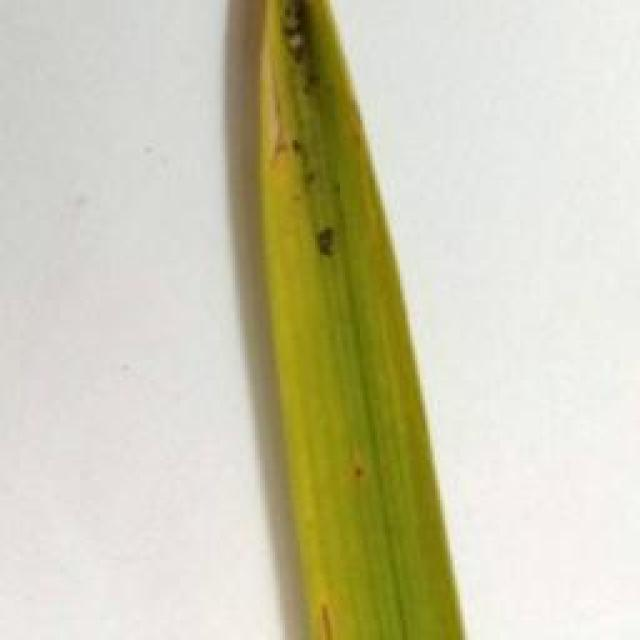Brown_Spot: (273, 0, 334, 101), (304, 221, 348, 281), (288, 134, 320, 192), (311, 601, 349, 640), (344, 458, 372, 486)
